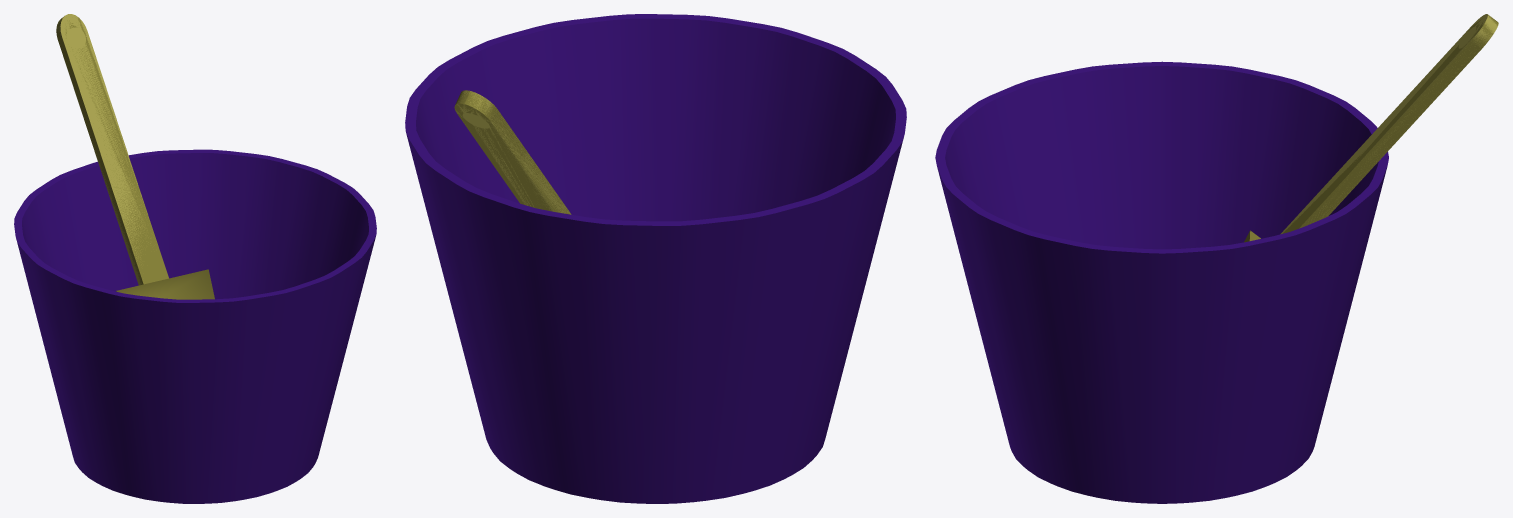
Rendered from bucket and shovel.fbx.
3 views of the same model, side by side, from view 1: azimuth 30°, elevation 25°; view 2: azimuth 150°, elevation 25°; view 3: azimuth 270°, elevation 25° (orthographic). The views are drawn at different scales.
Parts seen in each view (by area): view 1: pCylinder2, pCube2, polySurface1, pCube1; view 2: pCylinder2, polySurface1, pCube2; view 3: pCylinder2, polySurface1, pCube2.
Part boxes in pixels (left/top/right/bottom): pCylinder2: left=14, top=149, right=376, bottom=503; pCube2: left=56, top=14, right=150, bottom=285; polySurface1: left=56, top=15, right=168, bottom=284; pCube1: left=116, top=269, right=214, bottom=299; pCylinder2: left=405, top=14, right=906, bottom=503; polySurface1: left=454, top=90, right=571, bottom=214; pCube2: left=455, top=90, right=570, bottom=214; pCylinder2: left=935, top=61, right=1388, bottom=503; polySurface1: left=1283, top=14, right=1498, bottom=233; pCube2: left=1280, top=14, right=1497, bottom=234.
Size of the model in its own units: 32.64 by 33.78 by 40.51.
